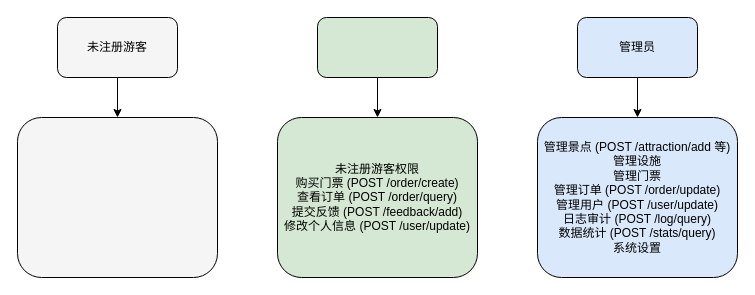
The diagram is 755 pixels wide and 295 high, and some of its shapes have lost their labels. Here are the shapes that lost their labels. From the top down, the centre of each, then its label:
At (377,47): "已注册游客".
At (117,197): "浏览景点信息 (POST /attraction/query) 查看设施详情 切换主题".
